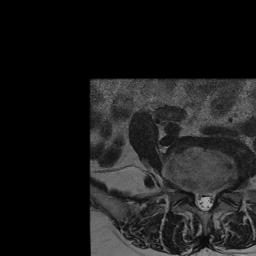CCS_normal: (202, 189, 208, 217)
LFS_normal: (215, 179, 223, 198)
LLS_normal: (208, 189, 216, 211)
RFS_severe_stenosis: (186, 180, 194, 201)
RLS_normal: (194, 187, 202, 214)
